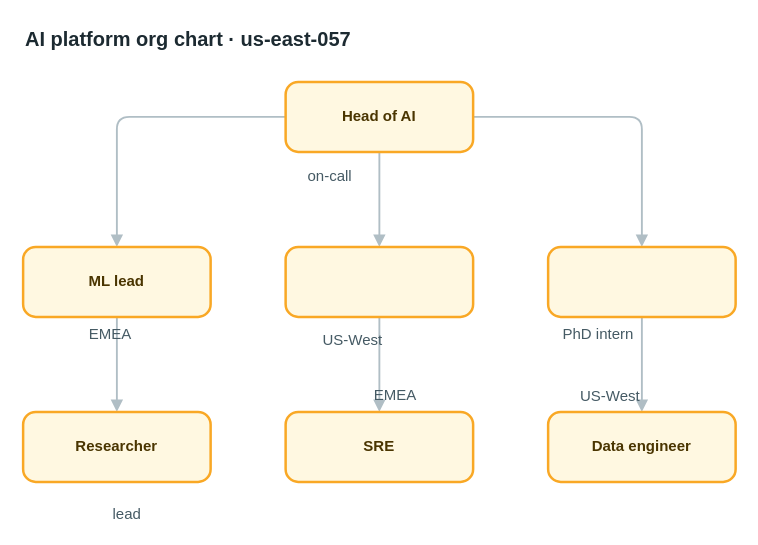
Some shapes in this 758 by 545 pixel diagram are drawn without their labels. The box of each missing label's shape, as (x1, y1, x2, y2) in pixels:
Data lead: (546, 245, 736, 318)
Infra lead: (284, 245, 474, 318)
